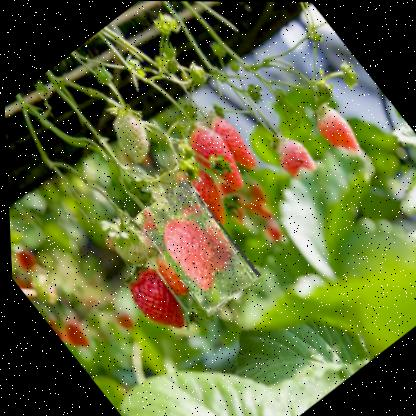strawberry: (130, 178, 264, 319)
